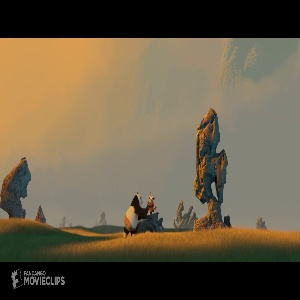po: (120, 189, 148, 237)
shifu: (148, 195, 157, 215)
